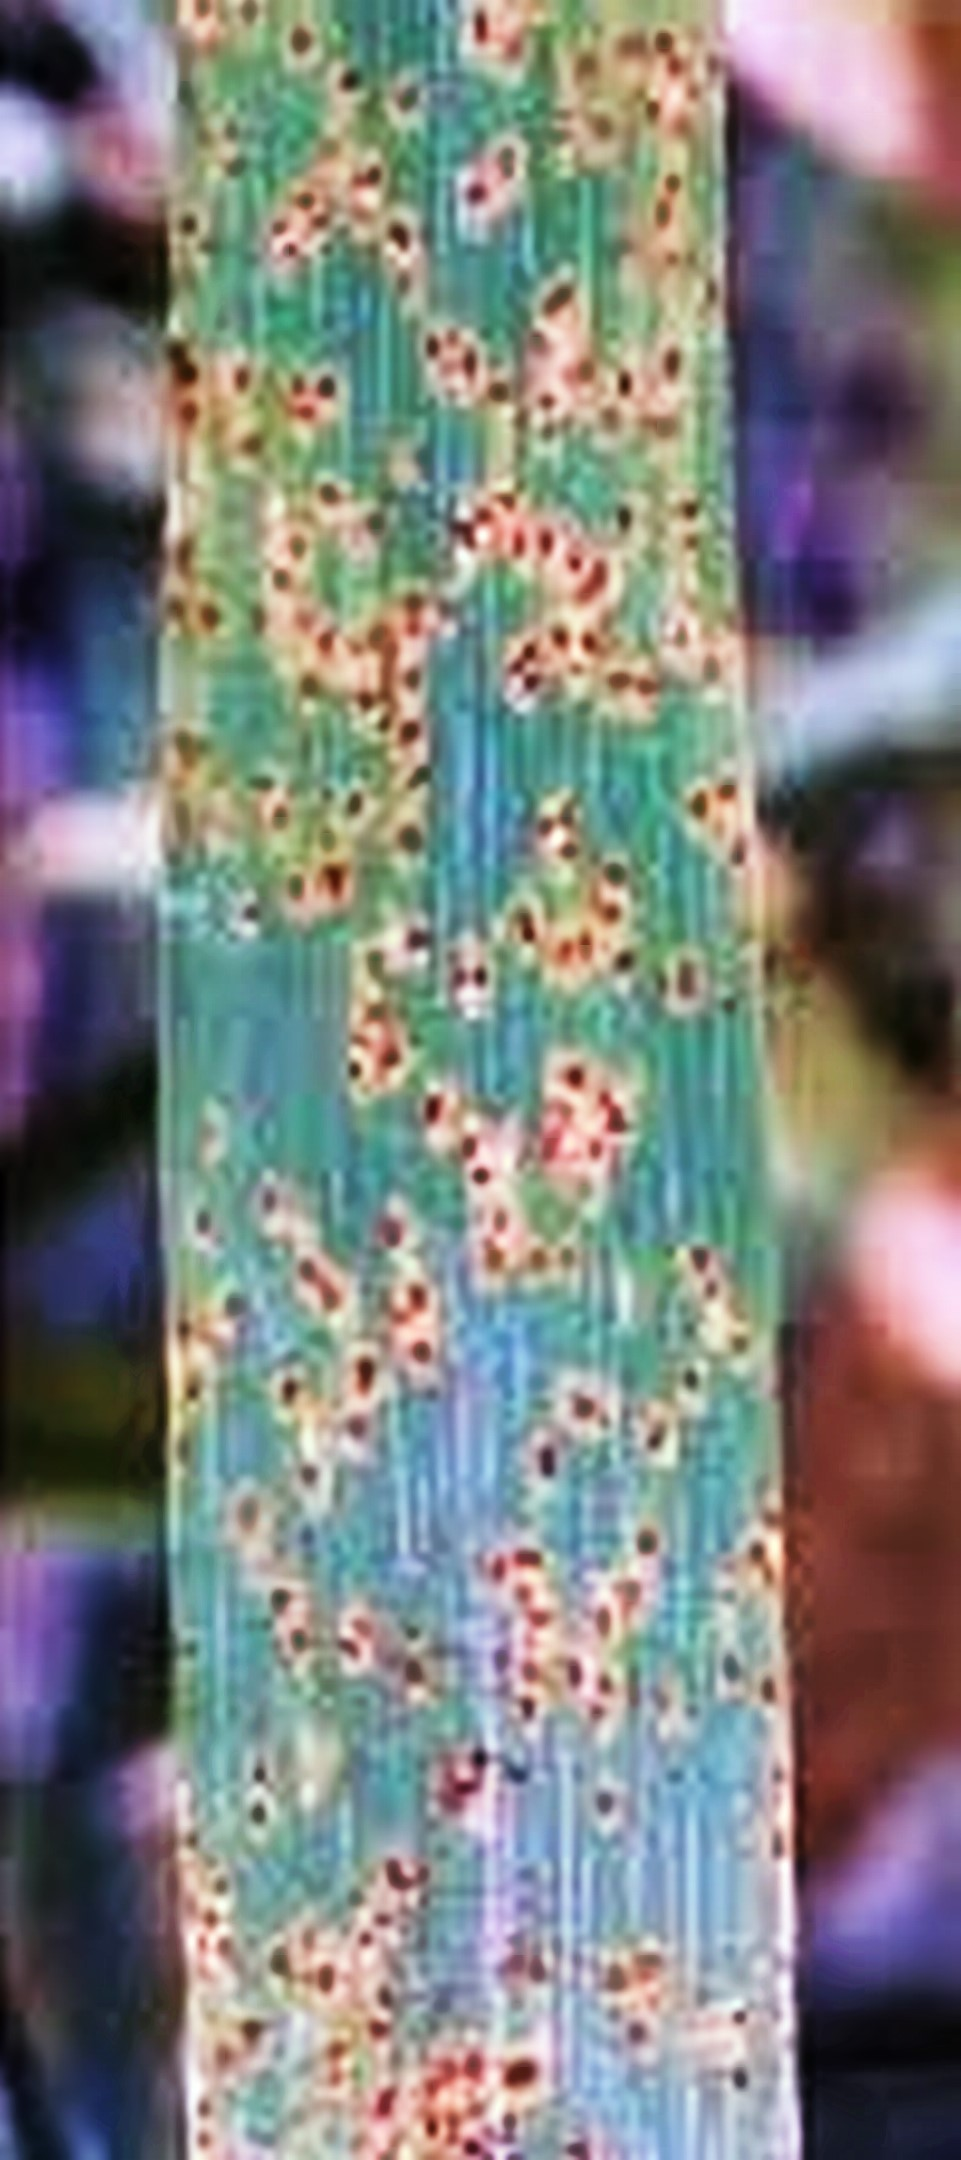Leaf Rust: (134, 34, 803, 2126)
